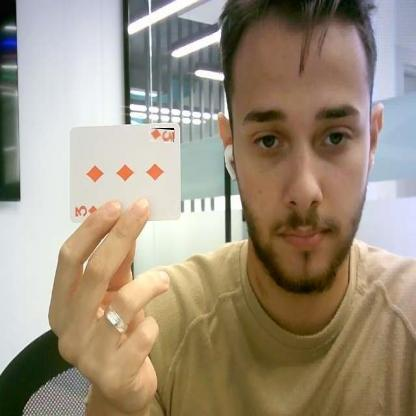3D: (150, 128, 174, 142)
